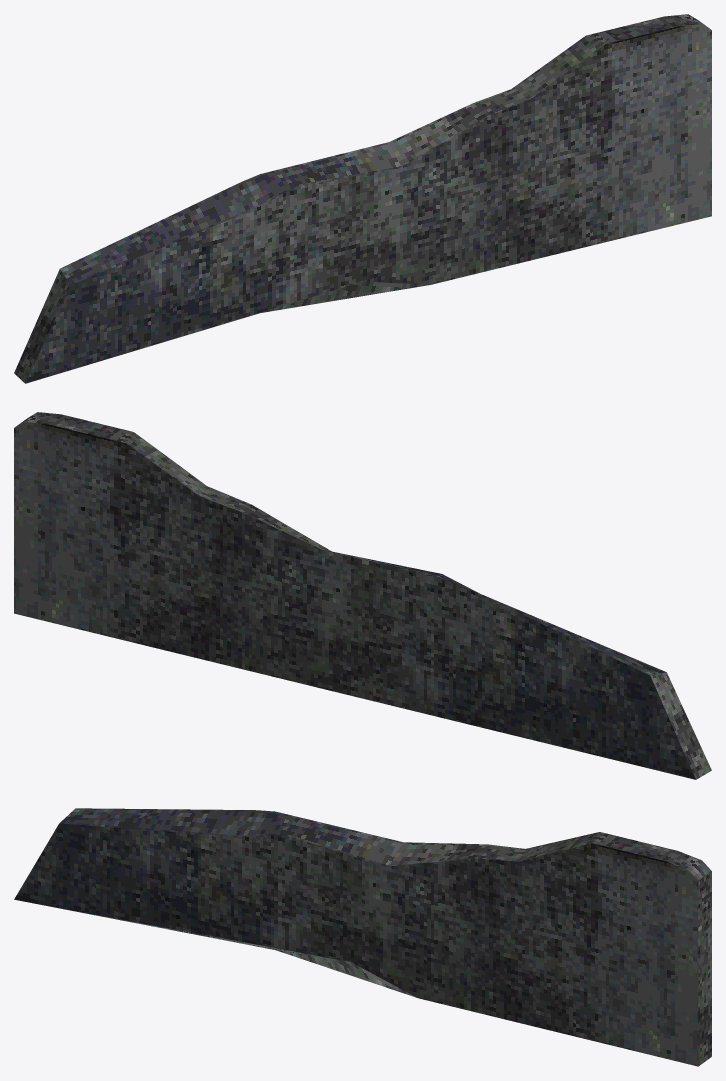
The model's file is plackard_slab_broken_alt.glb.
The picture shows the model from 3 angles, top to bottom: view 1: azimuth 30°, elevation 25°; view 2: azimuth 150°, elevation 25°; view 3: azimuth 330°, elevation 25°; orthographic projection.
Parts seen in each view (by area): view 1: plackard_slab_broken_alt; view 2: plackard_slab_broken_alt; view 3: plackard_slab_broken_alt.
Part boxes in pixels (x1,y1,x2,y2): plackard_slab_broken_alt: [14, 14, 711, 383]; plackard_slab_broken_alt: [14, 412, 711, 779]; plackard_slab_broken_alt: [14, 808, 711, 1066].
Bounding box in the file's own units: 2.9 × 0.8 × 0.1.
Materials: 1 (1 with a texture image).
